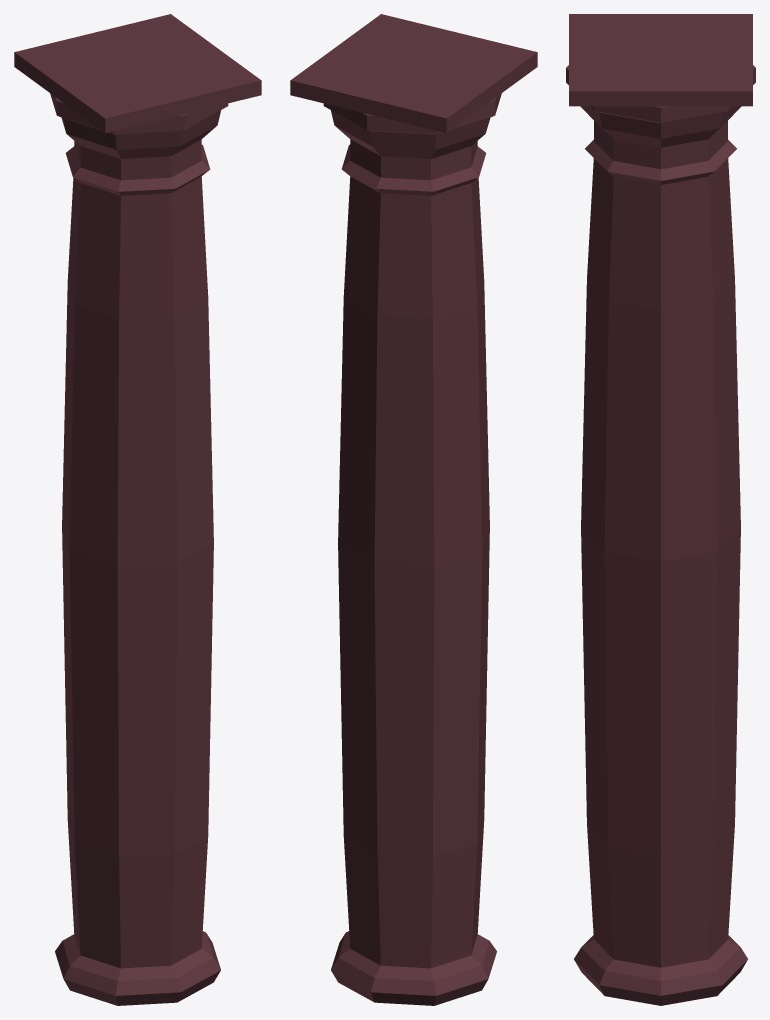
The model's file is SM_Pillar_Tuscan_Medium_Empire.fbx.
3 renders of one model, left to right at view 1: azimuth 30°, elevation 25°; view 2: azimuth 150°, elevation 25°; view 3: azimuth 270°, elevation 25°, orthographic.
Visible parts, largest first — view 1: SM_Pillar_Tuscan_Medium_Empire; view 2: SM_Pillar_Tuscan_Medium_Empire; view 3: SM_Pillar_Tuscan_Medium_Empire.
Boxes of the visible parts, x1=… form: SM_Pillar_Tuscan_Medium_Empire: x1=14, y1=14, x2=261, y2=1005; SM_Pillar_Tuscan_Medium_Empire: x1=290, y1=14, x2=537, y2=1005; SM_Pillar_Tuscan_Medium_Empire: x1=566, y1=14, x2=755, y2=1005.
Bounding box in the file's own units: 1.12 × 6 × 1.12.
